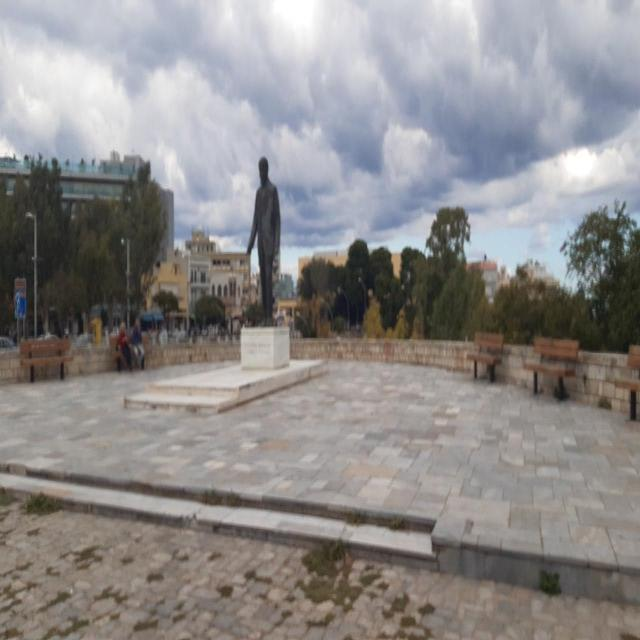Venizelos: (247, 157, 283, 328)
